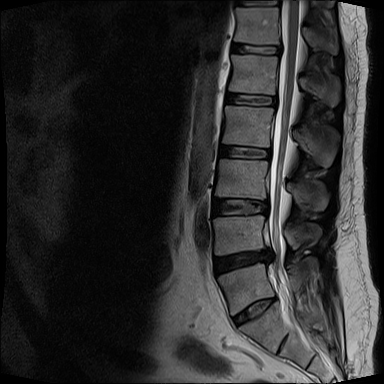Lumbar Disc Bulge LDB: (210, 242, 281, 280), (207, 192, 275, 222), (216, 89, 282, 111)
Normal IVD: (228, 291, 282, 330), (211, 138, 274, 162)
Spinal Stenosis SS: (256, 240, 281, 269), (257, 192, 275, 220), (274, 40, 290, 61), (270, 89, 284, 113)
Thoracic Disc Bulge TDB: (227, 38, 283, 59)
